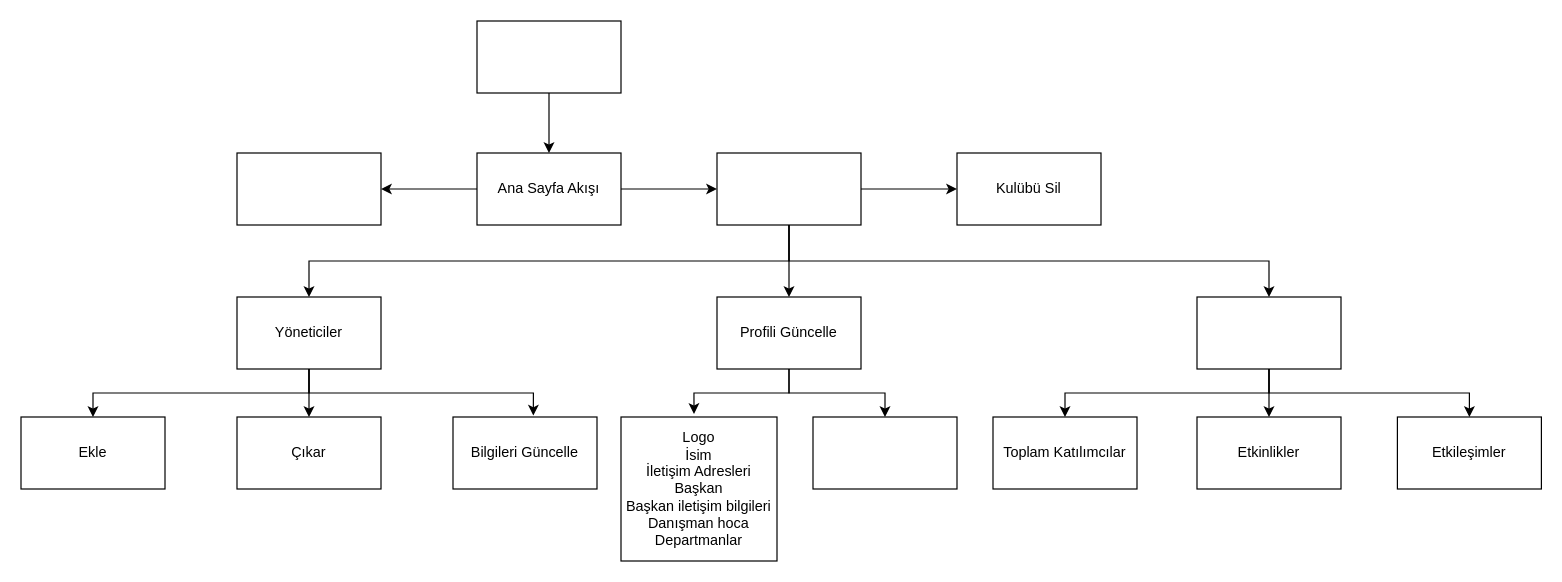
The diagram is 1562 pixels wide and 582 high, and some of its shapes have lost their labels. The centre of each missing label's shape, as x and y in pixels:
"Gelen Kutusu" belongs at (x=308, y=188).
"Giriş" belongs at (x=548, y=56).
"İstatistikler Dashboard" belongs at (x=1268, y=332).
"Kulüp Hakkında" belongs at (x=884, y=452).
"Profilim" belongs at (x=788, y=188).
